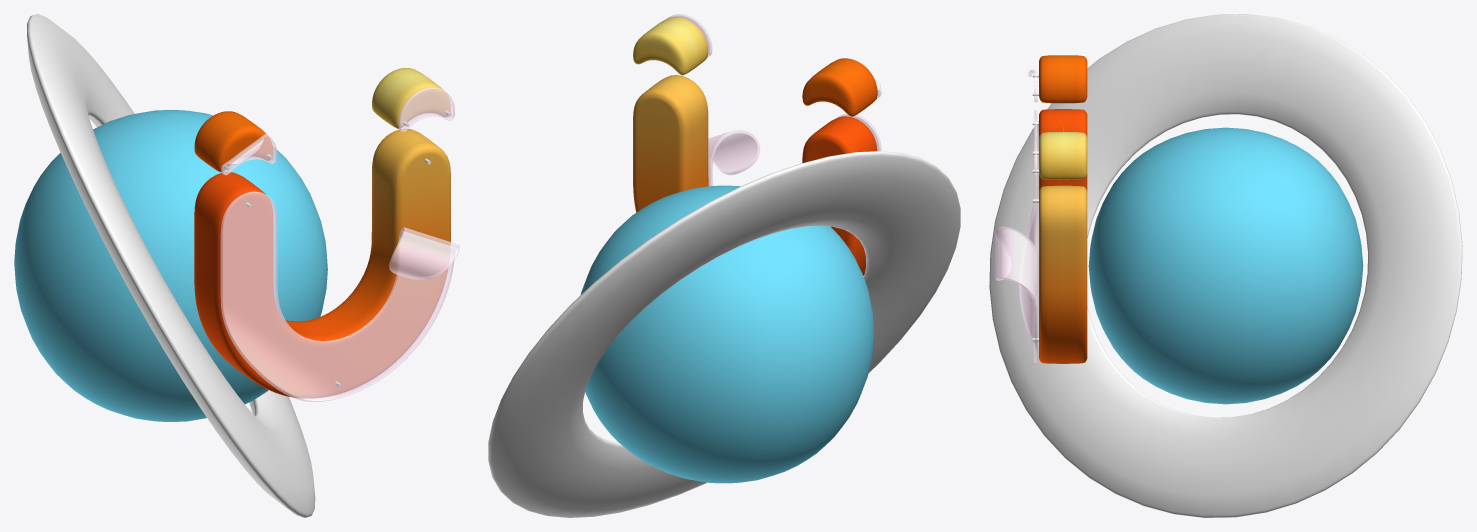
The model's file is u1_gai.30c7b194.glb.
3 renders of one model, left to right at view 1: azimuth 30°, elevation 25°; view 2: azimuth 150°, elevation 25°; view 3: azimuth 270°, elevation 25°, orthographic. The views are drawn at different scales.
Visible parts, largest first — view 1: qiu2, logo, 环体.004, boli; view 2: qiu2, 环体.004, logo, boli; view 3: 环体.004, qiu2, logo, boli.
Part boxes in pixels (box(x1,y1,x2,y2)): qiu2: box(14, 110, 327, 421); logo: box(194, 68, 450, 398); 环体.004: box(27, 14, 315, 517); boli: box(220, 87, 459, 401); qiu2: box(580, 185, 873, 483); 环体.004: box(488, 151, 960, 517); logo: box(633, 17, 877, 275); boli: box(666, 14, 881, 186); 环体.004: box(989, 14, 1462, 517); qiu2: box(1088, 127, 1363, 404); logo: box(1039, 55, 1087, 363); boli: box(995, 69, 1037, 362).
Bounding box in the file's own units: 1.91 × 2.52 × 2.69.
Materials: 5 (1 with a texture image).
